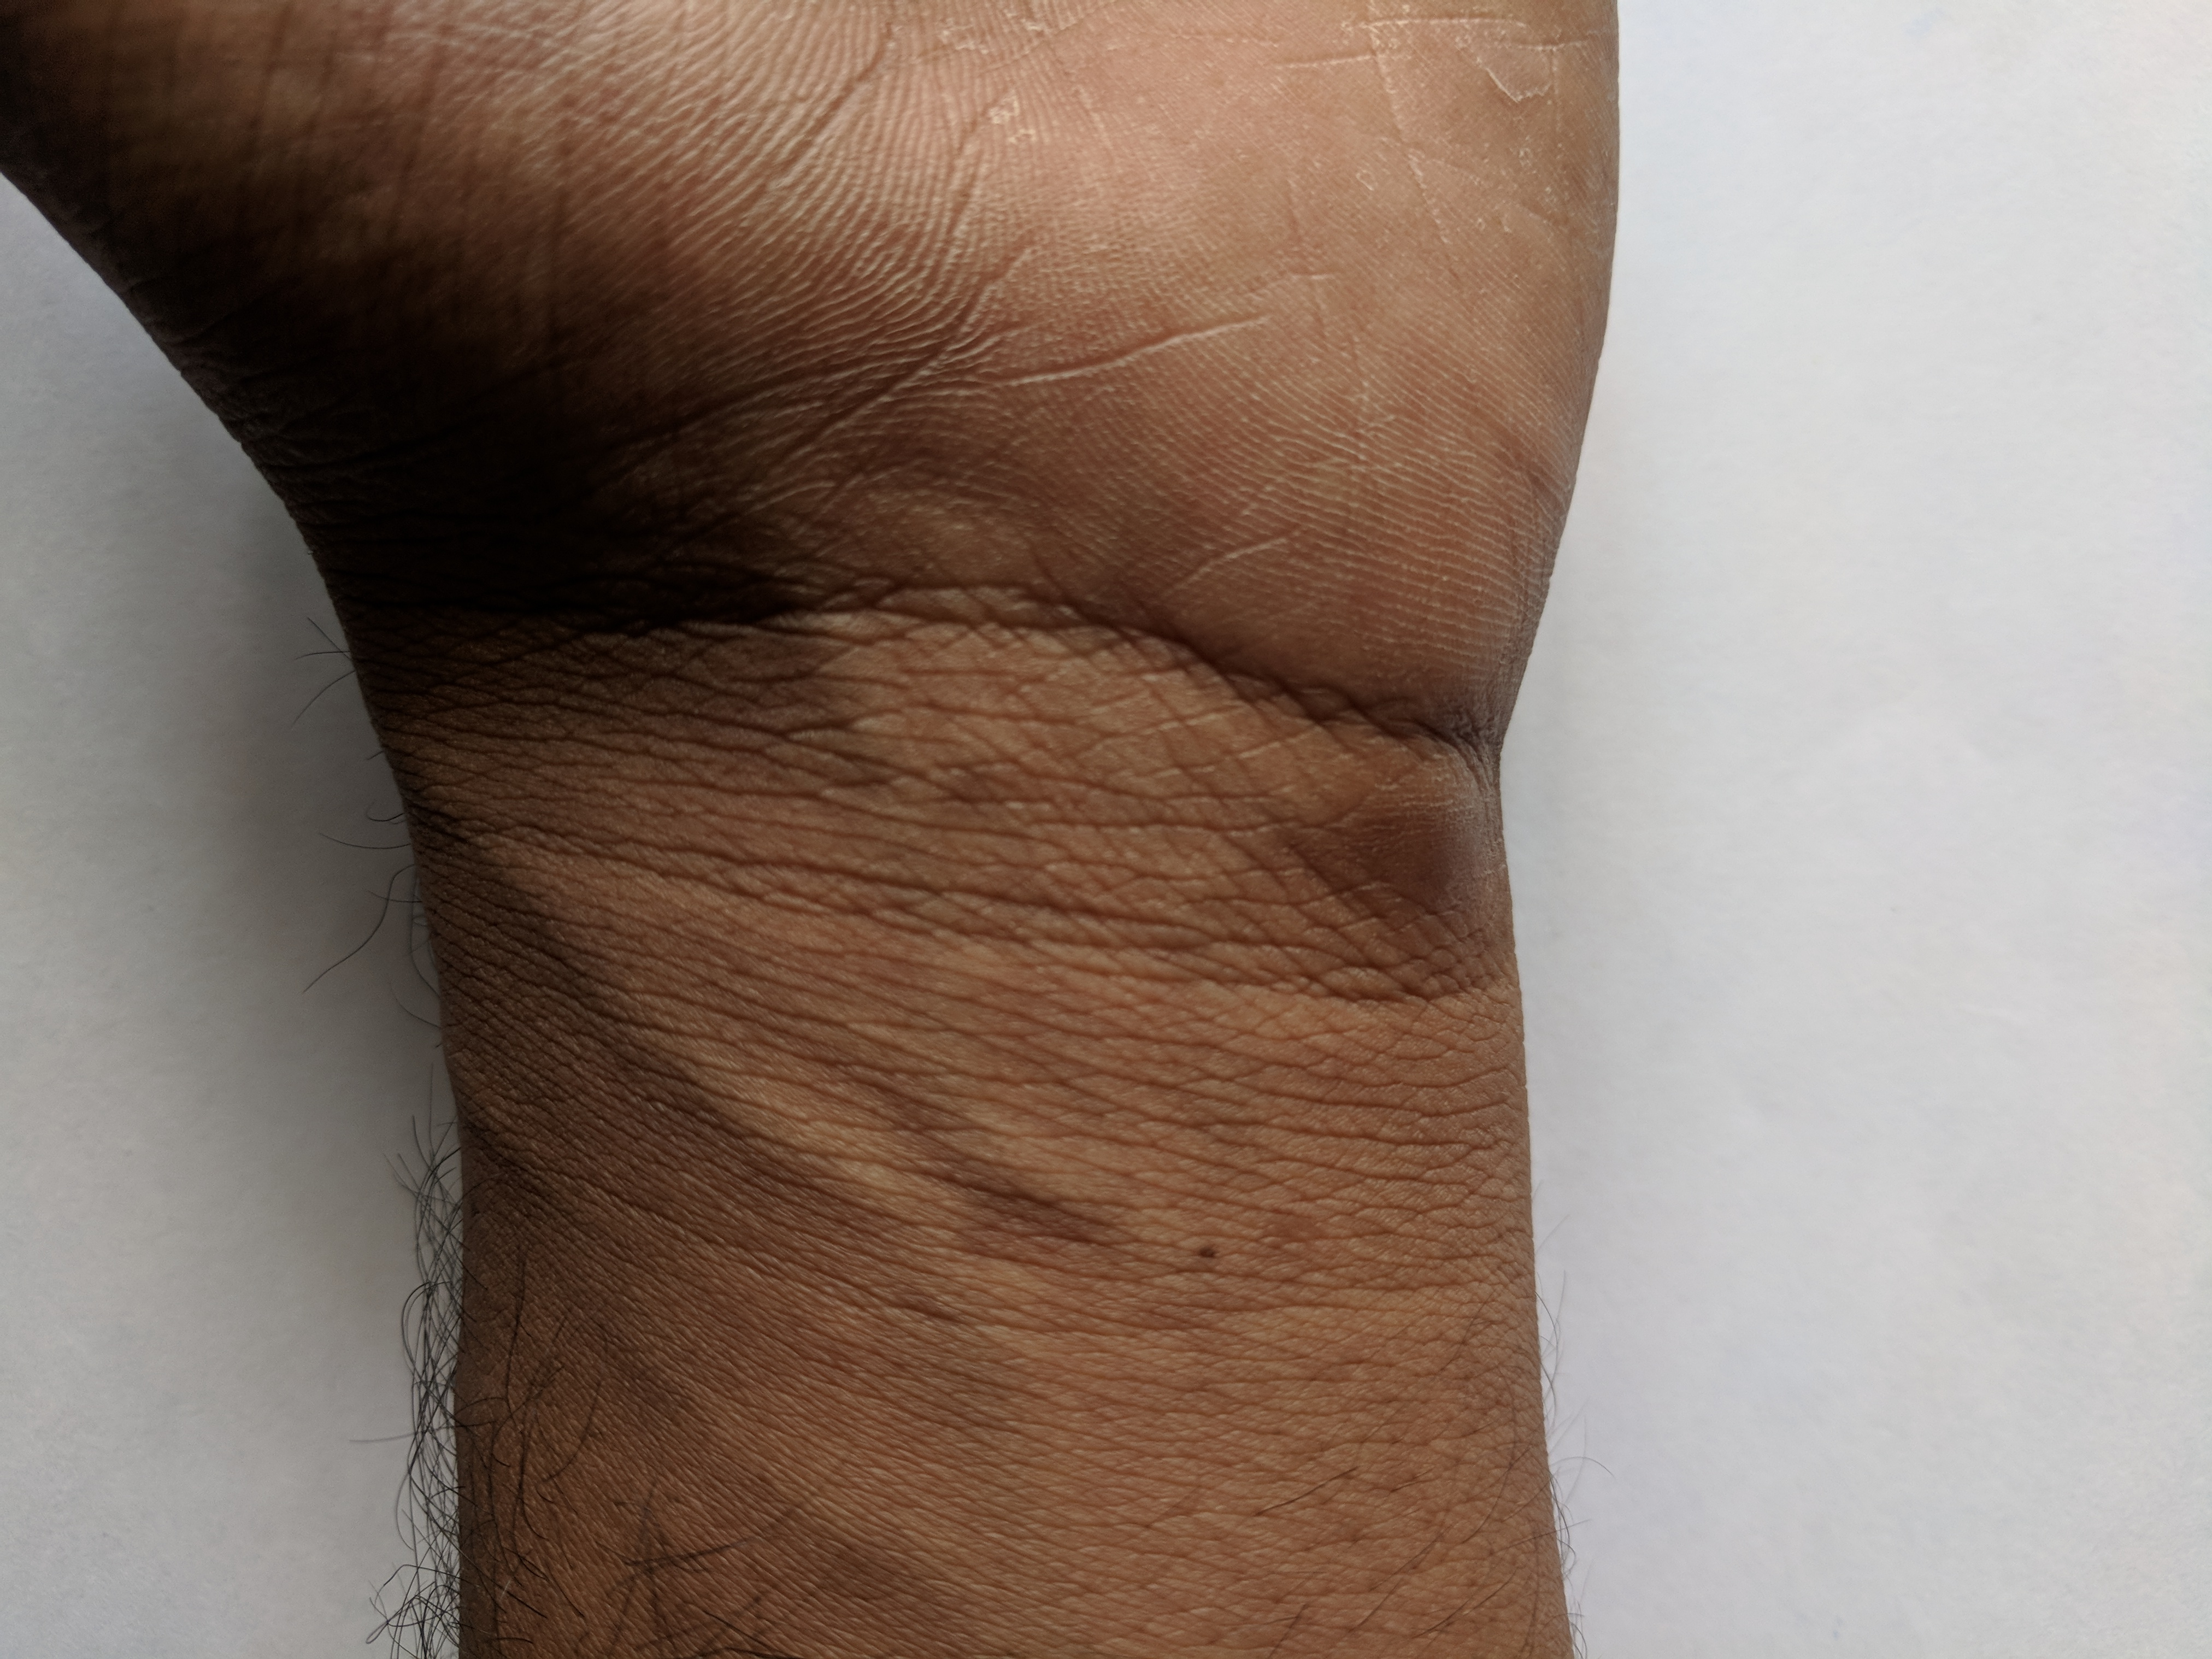lefthandwrist: (263, 465, 1580, 1066)
